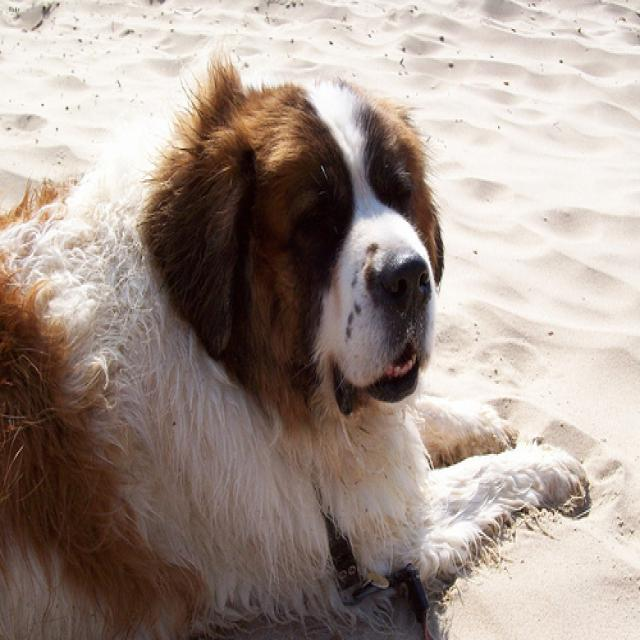dog-saint_bernard: (1, 44, 600, 637)
